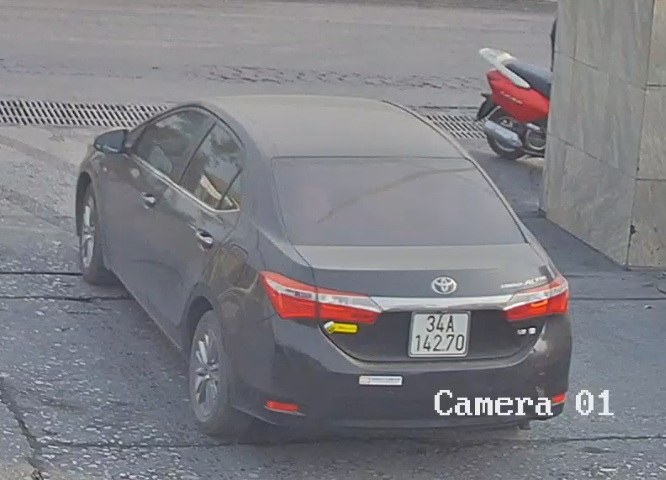vehicle plate: (407, 307, 471, 356)
